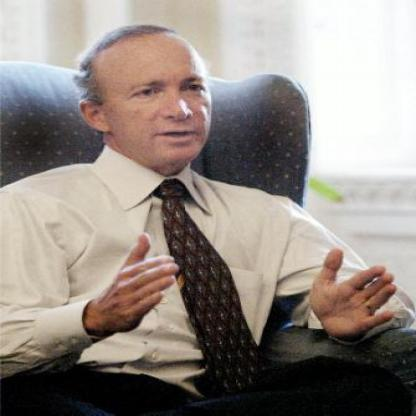face: (98, 26, 216, 166)
